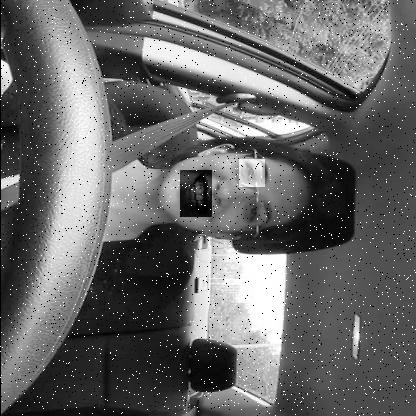seatbelt: (0, 116, 332, 259)
